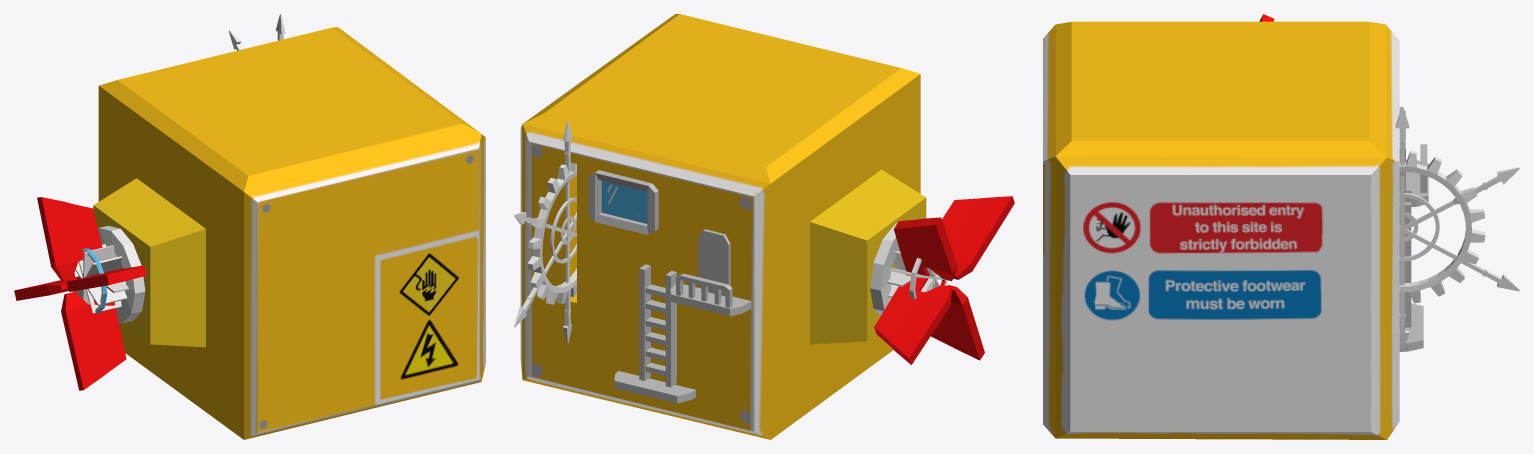
File: SM_Module_Generator.fbx
3 renders of one model, left to right at view 1: azimuth 30°, elevation 25°; view 2: azimuth 150°, elevation 25°; view 3: azimuth 270°, elevation 25°, orthographic. The views are drawn at different scales.
Visible parts, largest first — view 1: generator_GEO; view 2: generator_GEO; view 3: generator_GEO.
Part boxes in pixels (x1=…): generator_GEO: x1=14, y1=14, x2=485, y2=439; generator_GEO: x1=514, y1=14, x2=1014, y2=439; generator_GEO: x1=1043, y1=14, x2=1519, y2=439.
Size of the model in its own units: 253 by 180 by 255.
Materials: 1 (1 with a texture image).
